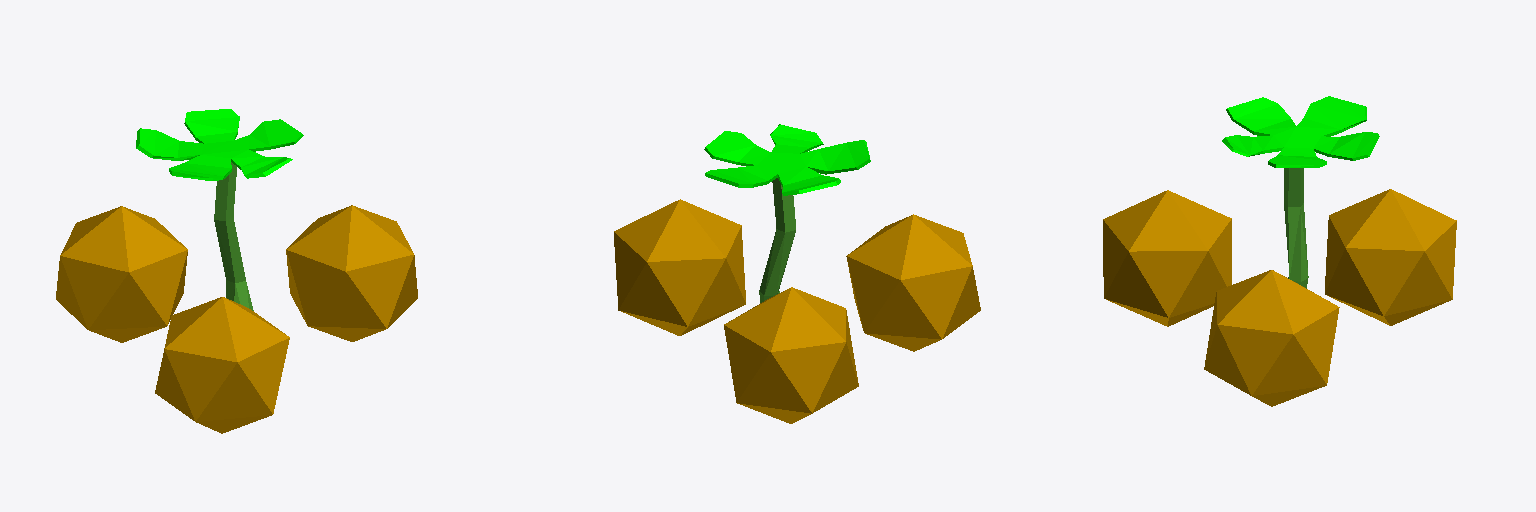
The model's file is grab_flower_tool.obj.
The picture shows the model from 3 angles: view 1: azimuth 30°, elevation 25°; view 2: azimuth 150°, elevation 25°; view 3: azimuth 270°, elevation 25°; orthographic projection.
Visible parts, largest first — view 1: energy_remain_Icosphere.001, energy_remain_Icosphere, energy_remain_Icosphere.002, Cube.002; view 2: energy_remain_Icosphere.001, energy_remain_Icosphere, energy_remain_Icosphere.002, Cube.002; view 3: energy_remain_Icosphere, energy_remain_Icosphere.002, energy_remain_Icosphere.001, Cube.002.
Part boxes in pixels (bbox=[...]): energy_remain_Icosphere.001: bbox=[286, 205, 417, 341]; energy_remain_Icosphere: bbox=[56, 206, 187, 342]; energy_remain_Icosphere.002: bbox=[155, 297, 289, 433]; Cube.002: bbox=[136, 109, 303, 310]; energy_remain_Icosphere.001: bbox=[614, 199, 745, 335]; energy_remain_Icosphere: bbox=[724, 287, 858, 423]; energy_remain_Icosphere.002: bbox=[846, 214, 980, 351]; Cube.002: bbox=[704, 124, 870, 302]; energy_remain_Icosphere: bbox=[1325, 189, 1456, 325]; energy_remain_Icosphere.002: bbox=[1103, 190, 1231, 326]; energy_remain_Icosphere.001: bbox=[1204, 270, 1339, 406]; Cube.002: bbox=[1222, 96, 1379, 288].
Bounding box in the file's own units: 0.6505 × 0.4822 × 0.6726.